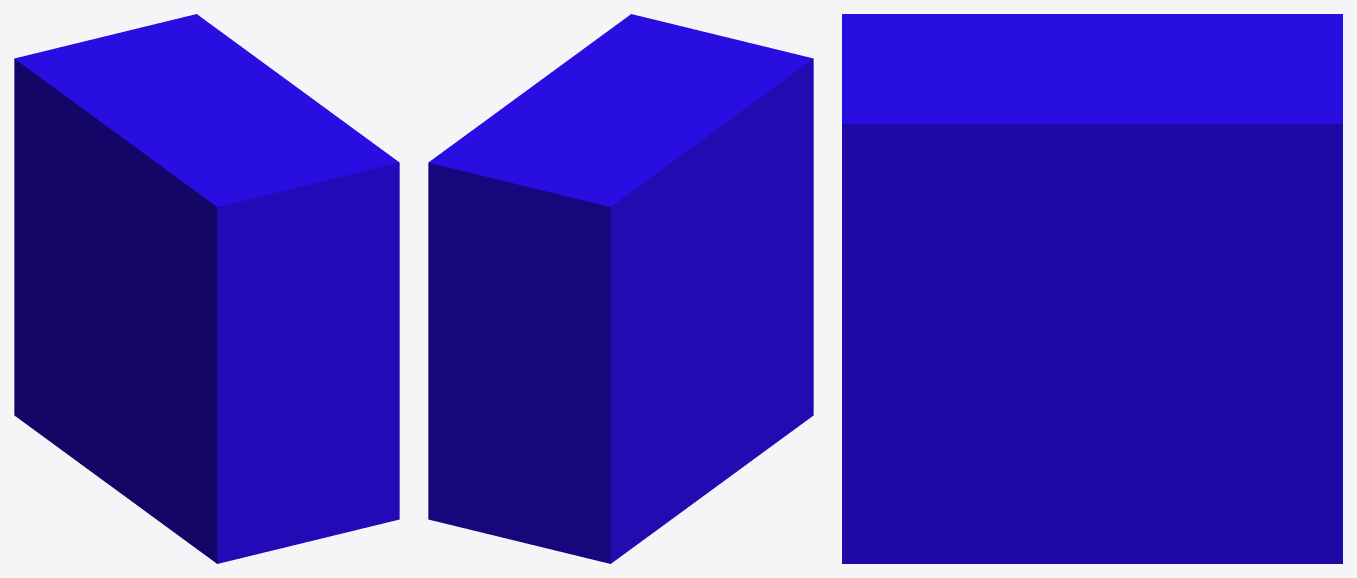
The picture shows the model from 3 angles, left to right: view 1: azimuth 30°, elevation 25°; view 2: azimuth 150°, elevation 25°; view 3: azimuth 270°, elevation 25°; orthographic projection. The views are drawn at different scales.
Visible parts, largest first — view 1: Box; view 2: Box; view 3: Box.
Part boxes in pixels (box(x1,y1,x2,y2)): Box: box(14, 14, 399, 563); Box: box(428, 14, 813, 563); Box: box(842, 14, 1342, 563).
Size of the model in its own units: 1.38 by 2.58 by 2.66.
